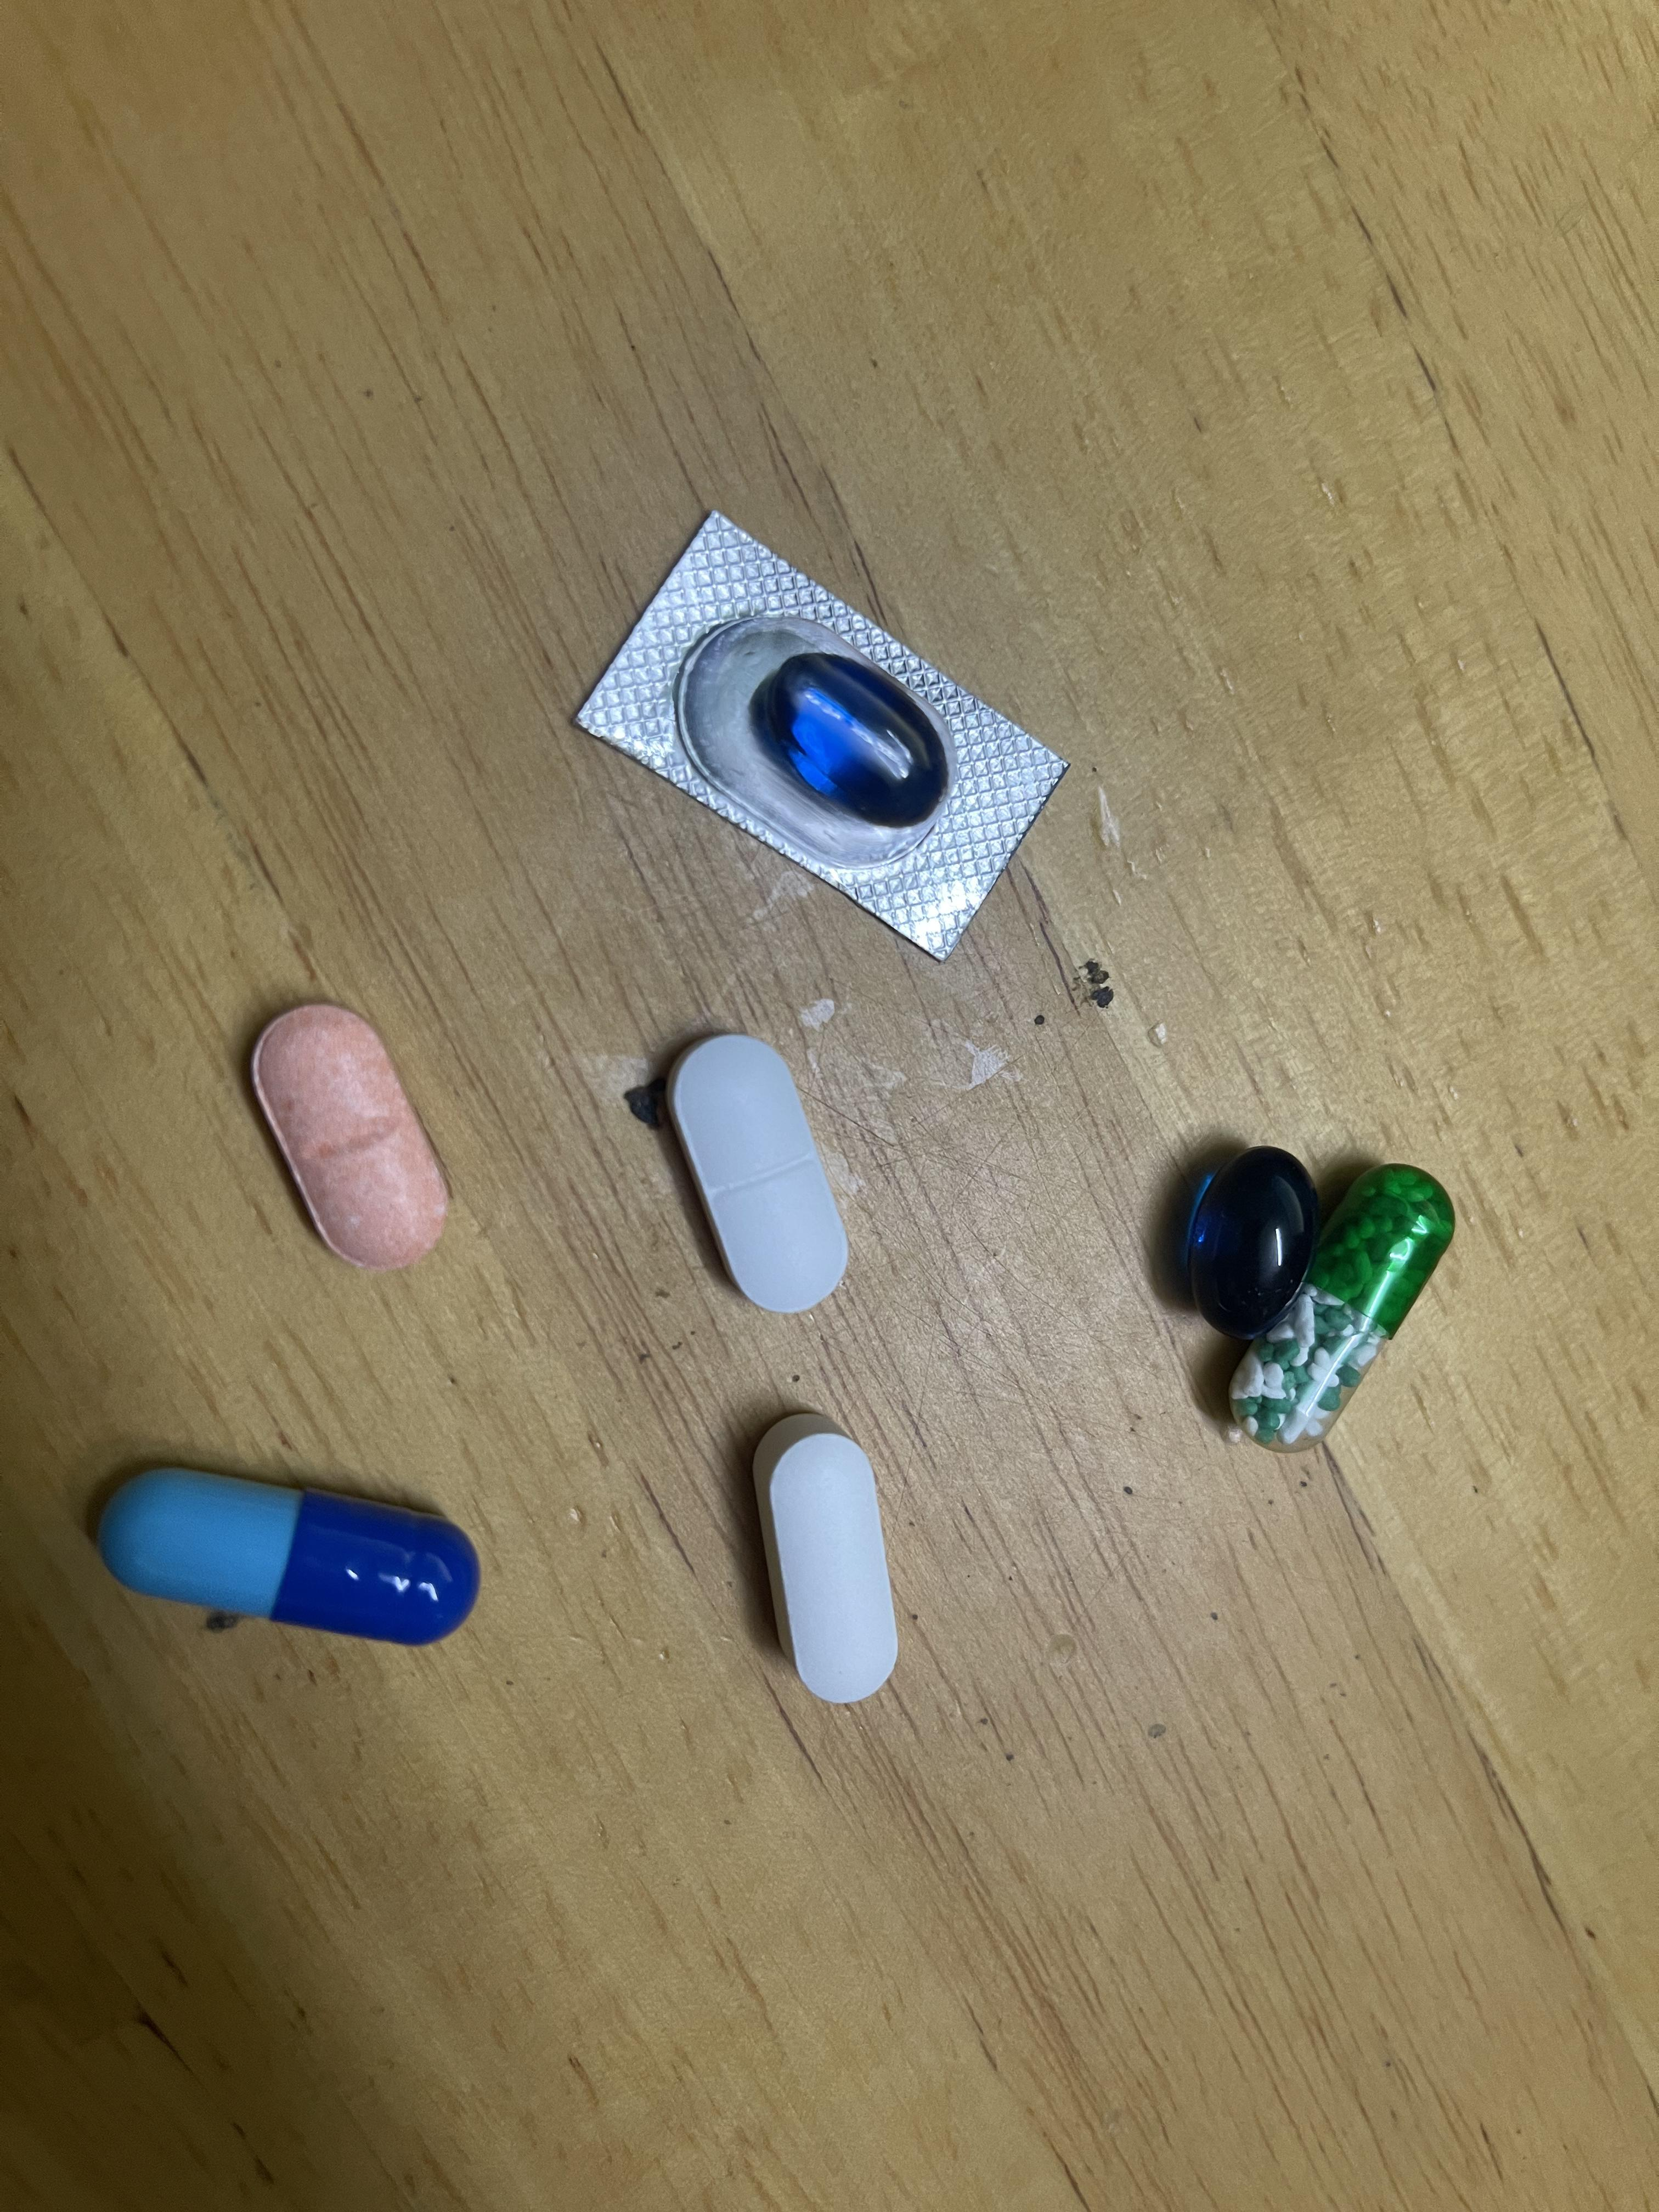Lincomyxin_500mg: (753, 653, 938, 822), (1178, 1141, 1321, 1334)
Loratadine_10mg: (249, 1003, 450, 1271)
Paracetamol_350mg: (669, 1033, 849, 1310)
Paracetamol_500mg: (762, 1428, 899, 1698)
Paracetamol_650mg: (1229, 1167, 1459, 1444)
pill: (103, 1465, 469, 1641)
